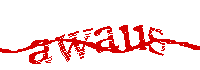a: (93, 25, 118, 55), (27, 38, 54, 65)
s: (148, 22, 166, 56)
u: (120, 22, 146, 52)
w: (55, 27, 92, 64)
